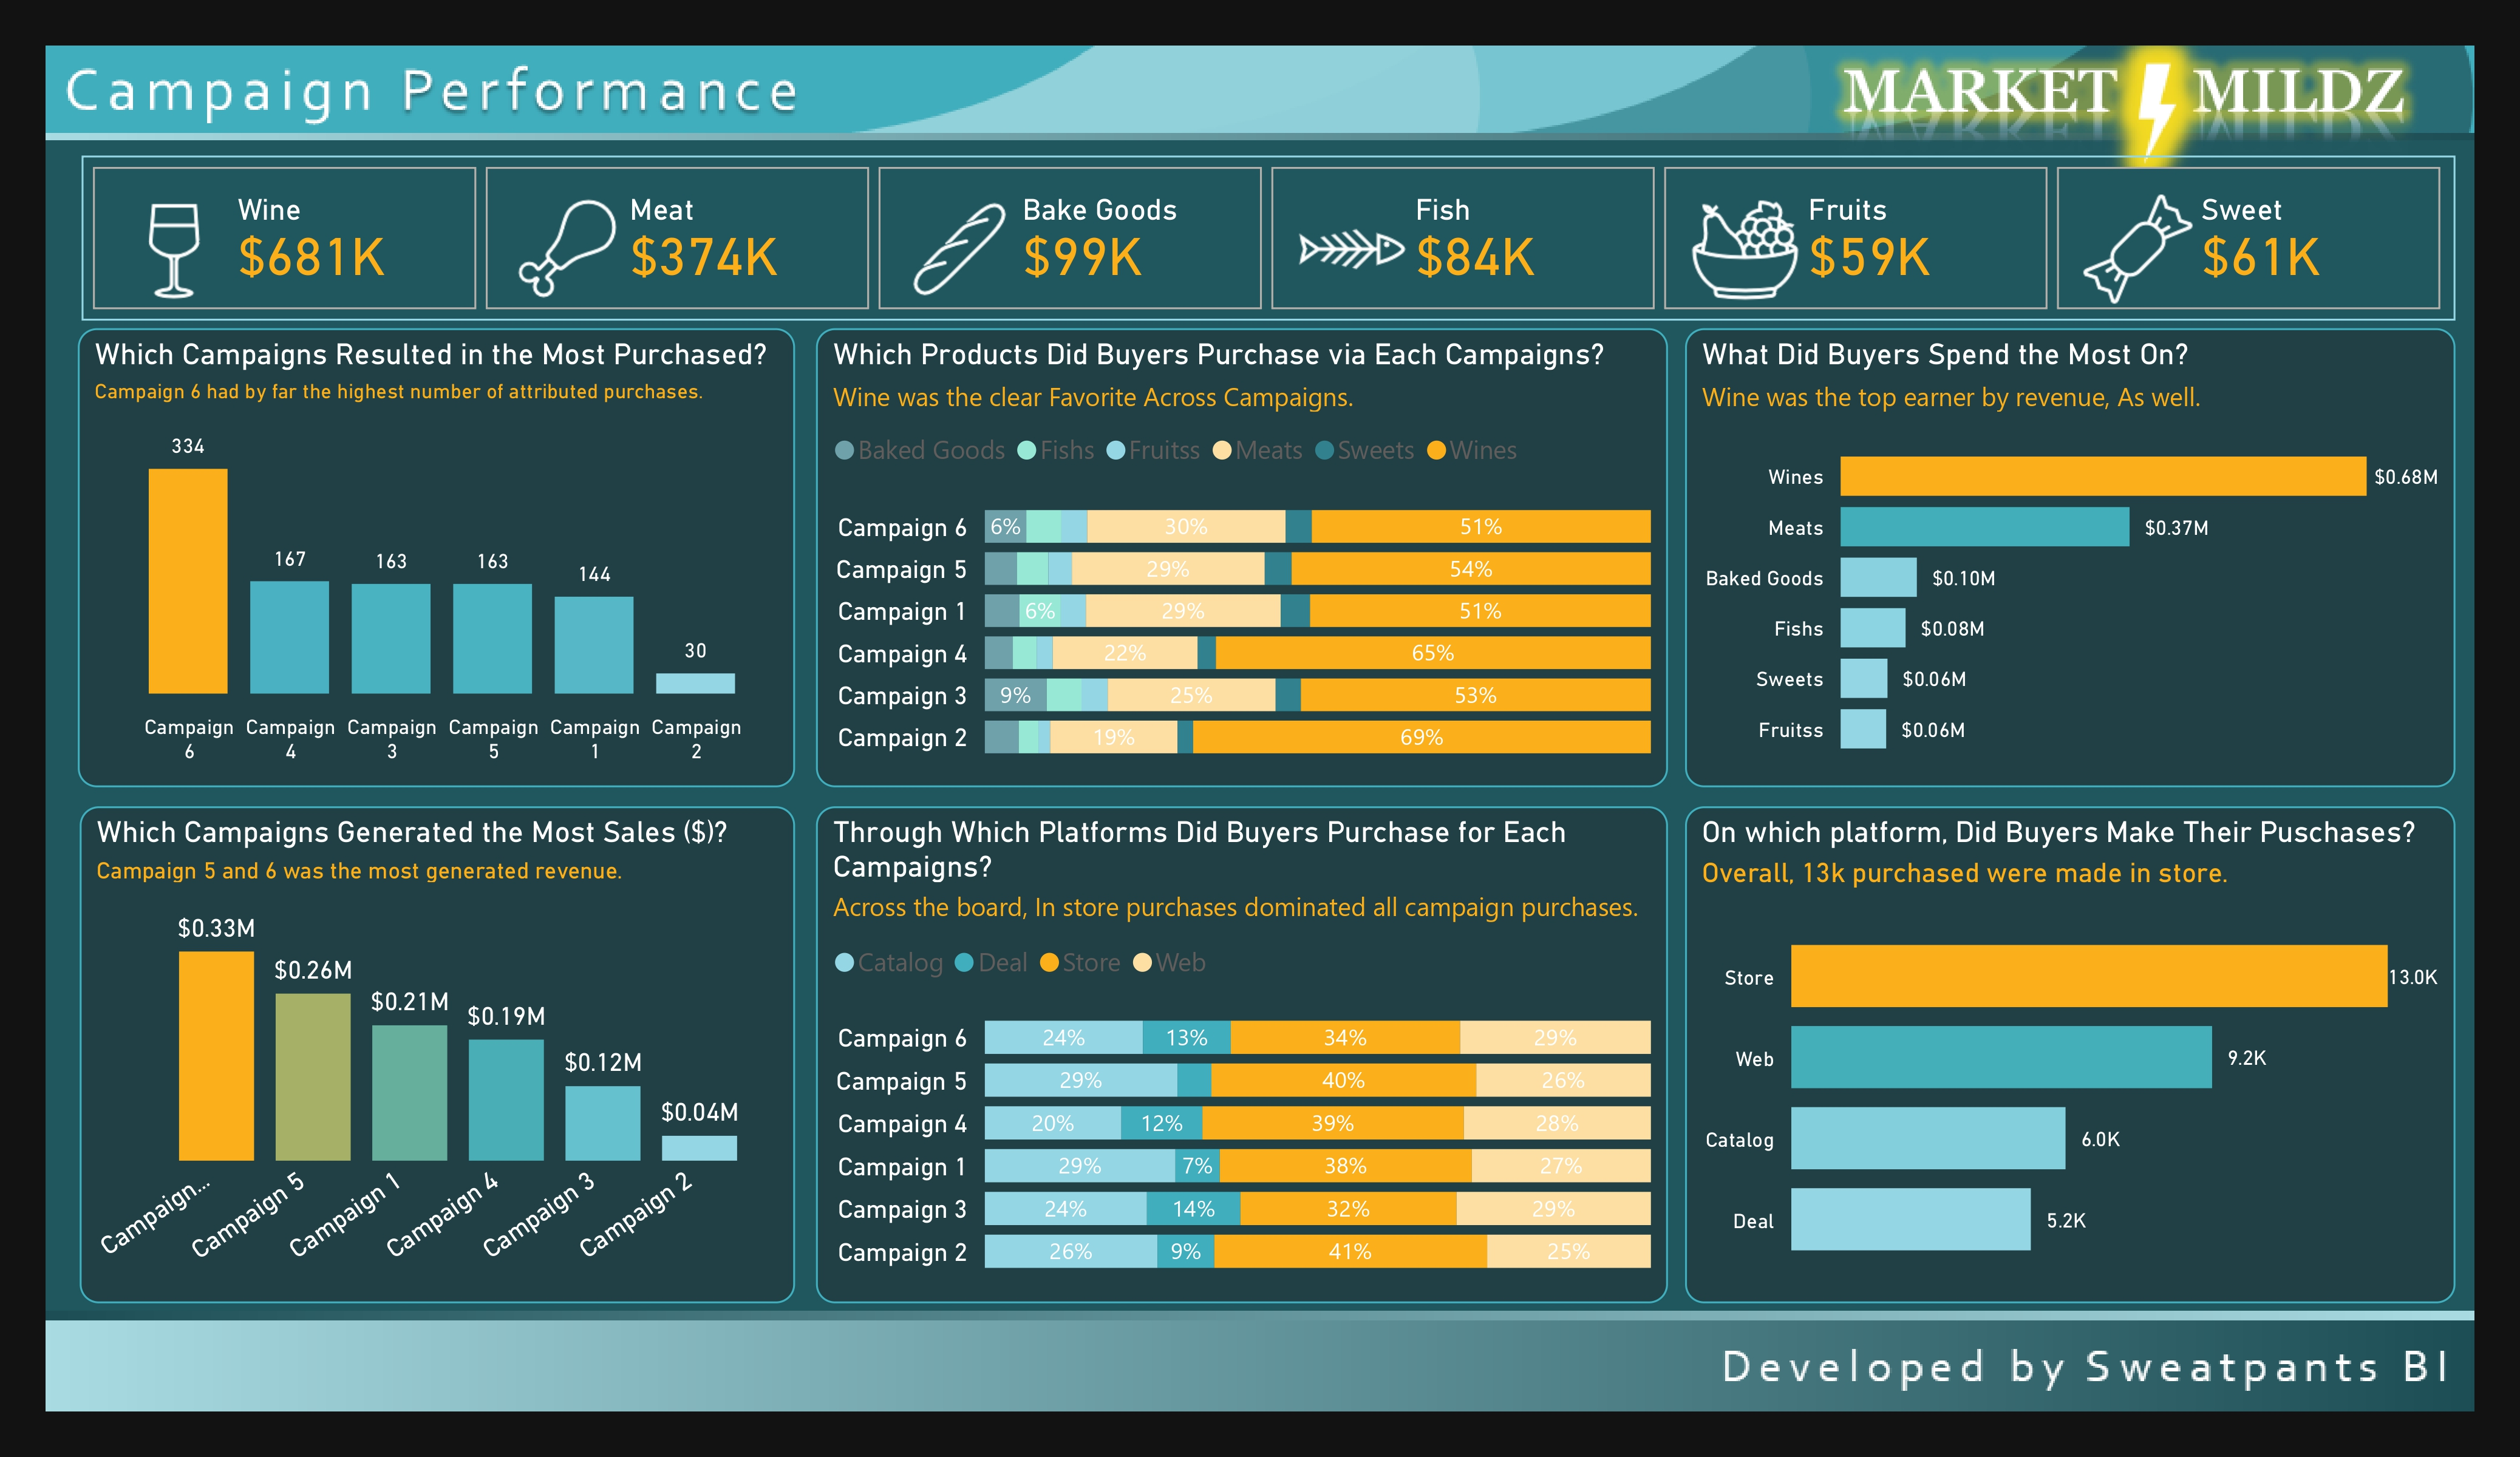

Layout of this report page (visuals, bound fields, positions):
{"tool":"powerbi","page":{"name":"Campain Performance","canvas":[1280,720],"ordinal":0},"visuals":[{"type":"clusteredColumnChart","title":"Which Campaigns Resulted in the Most Purchased?","fields":{"Category":["campaign.Campaign"],"Y":["Sum(campaign.Accepted_ind)"]},"box":[17,148.8,378.3,242.3],"z":0},{"type":"clusteredColumnChart","title":"Which Campaigns Generated the Most Sales ($)?","fields":{"Y":["Sum(products.Total Sales)"],"Category":["campaign.Campaign"]},"box":[18.4,401,376.9,262.1],"z":1000},{"type":"hundredPercentStackedBarChart","title":"Which Products Did Buyers Purchase via Each Campaigns?","fields":{"Category":["campaign.Campaign"],"Y":["Sum(products.Total Sales)"],"Series":["products.Product"]},"box":[405.8,148.6,448.9,242.8],"z":2000},{"type":"barChart","title":"What Did Buyers Spend the Most On?","fields":{"Category":["products.Product"],"Y":["Sum(products.Total Sales)"]},"box":[864.3,148.8,405.2,242.3],"z":3000},{"type":"hundredPercentStackedBarChart","title":"Through Which Platforms Did Buyers Purchase for Each Campaigns?","fields":{"Category":["campaign.Campaign"],"Y":["Sum(platform.Qty)"],"Series":["platform.Platform"]},"box":[405.9,401,449.2,262.1],"z":4000},{"type":"barChart","title":"On which platform, Did Buyers Make Their Puschases?","fields":{"Category":["platform.Platform"],"Y":["Sum(platform.Qty)"]},"box":[864.3,401,405.2,262.1],"z":5000},{"type":"cardVisual","fields":{"Data":["Sum(marketmindz_research_data.Amount_Wine_Products)","Sum(marketmindz_research_data.Amount_Meat_Products)","Sum(marketmindz_research_data.Amount_Bake_Products)","Sum(marketmindz_research_data.Amount_Fish_Products)","Sum(marketmindz_research_data.Amount_Fruits_Products)","Sum(marketmindz_research_data.Amount_Sweet_Products)"]},"box":[19.2,57.5,1251,87.9],"z":6000}]}

Visuals, with their boxes on the page's 1280x720 design canvas (x1, y1, x2, y2). These are canvas units, not pixel positions in the 2520x1457 screenshot, which may show the page scaled, cropped or inside an application window:
"Which Campaigns Resulted in the Most Purchased?" clusteredColumnChart: BBox(17, 149, 395, 391)
"Which Campaigns Generated the Most Sales ($)?" clusteredColumnChart: BBox(18, 401, 395, 663)
"Which Products Did Buyers Purchase via Each Campaigns?" hundredPercentStackedBarChart: BBox(406, 149, 855, 391)
"What Did Buyers Spend the Most On?" barChart: BBox(864, 149, 1270, 391)
"Through Which Platforms Did Buyers Purchase for Each Campaigns?" hundredPercentStackedBarChart: BBox(406, 401, 855, 663)
"On which platform, Did Buyers Make Their Puschases?" barChart: BBox(864, 401, 1270, 663)
cardVisual - Sum(marketmindz_research_data.Amount_Wine_Products) x Sum(marketmindz_research_data.Amount_Meat_Products): BBox(19, 58, 1270, 145)
